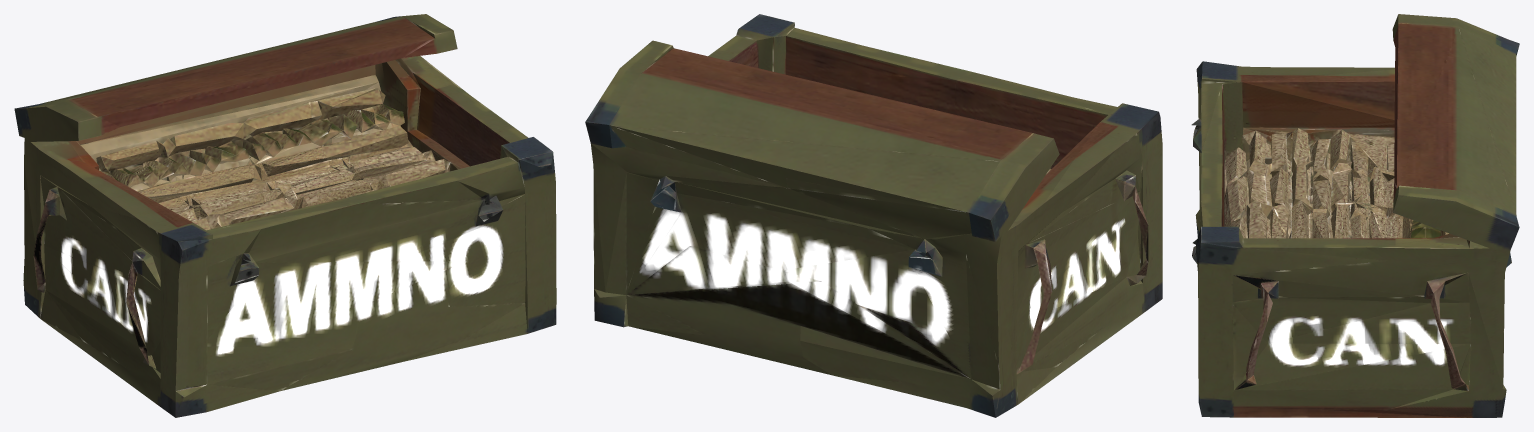
3 renders of one model, left to right at view 1: azimuth 30°, elevation 25°; view 2: azimuth 150°, elevation 25°; view 3: azimuth 270°, elevation 25°, orthographic. The views are drawn at different scales.
Bounding box in the file's own units: 1.9 × 0.9794 × 1.31.
1 material, 1 textured.
